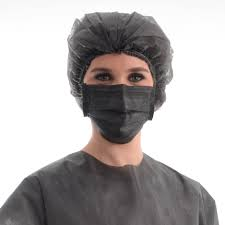with_mask_and_cap: (73, 14, 162, 145)
